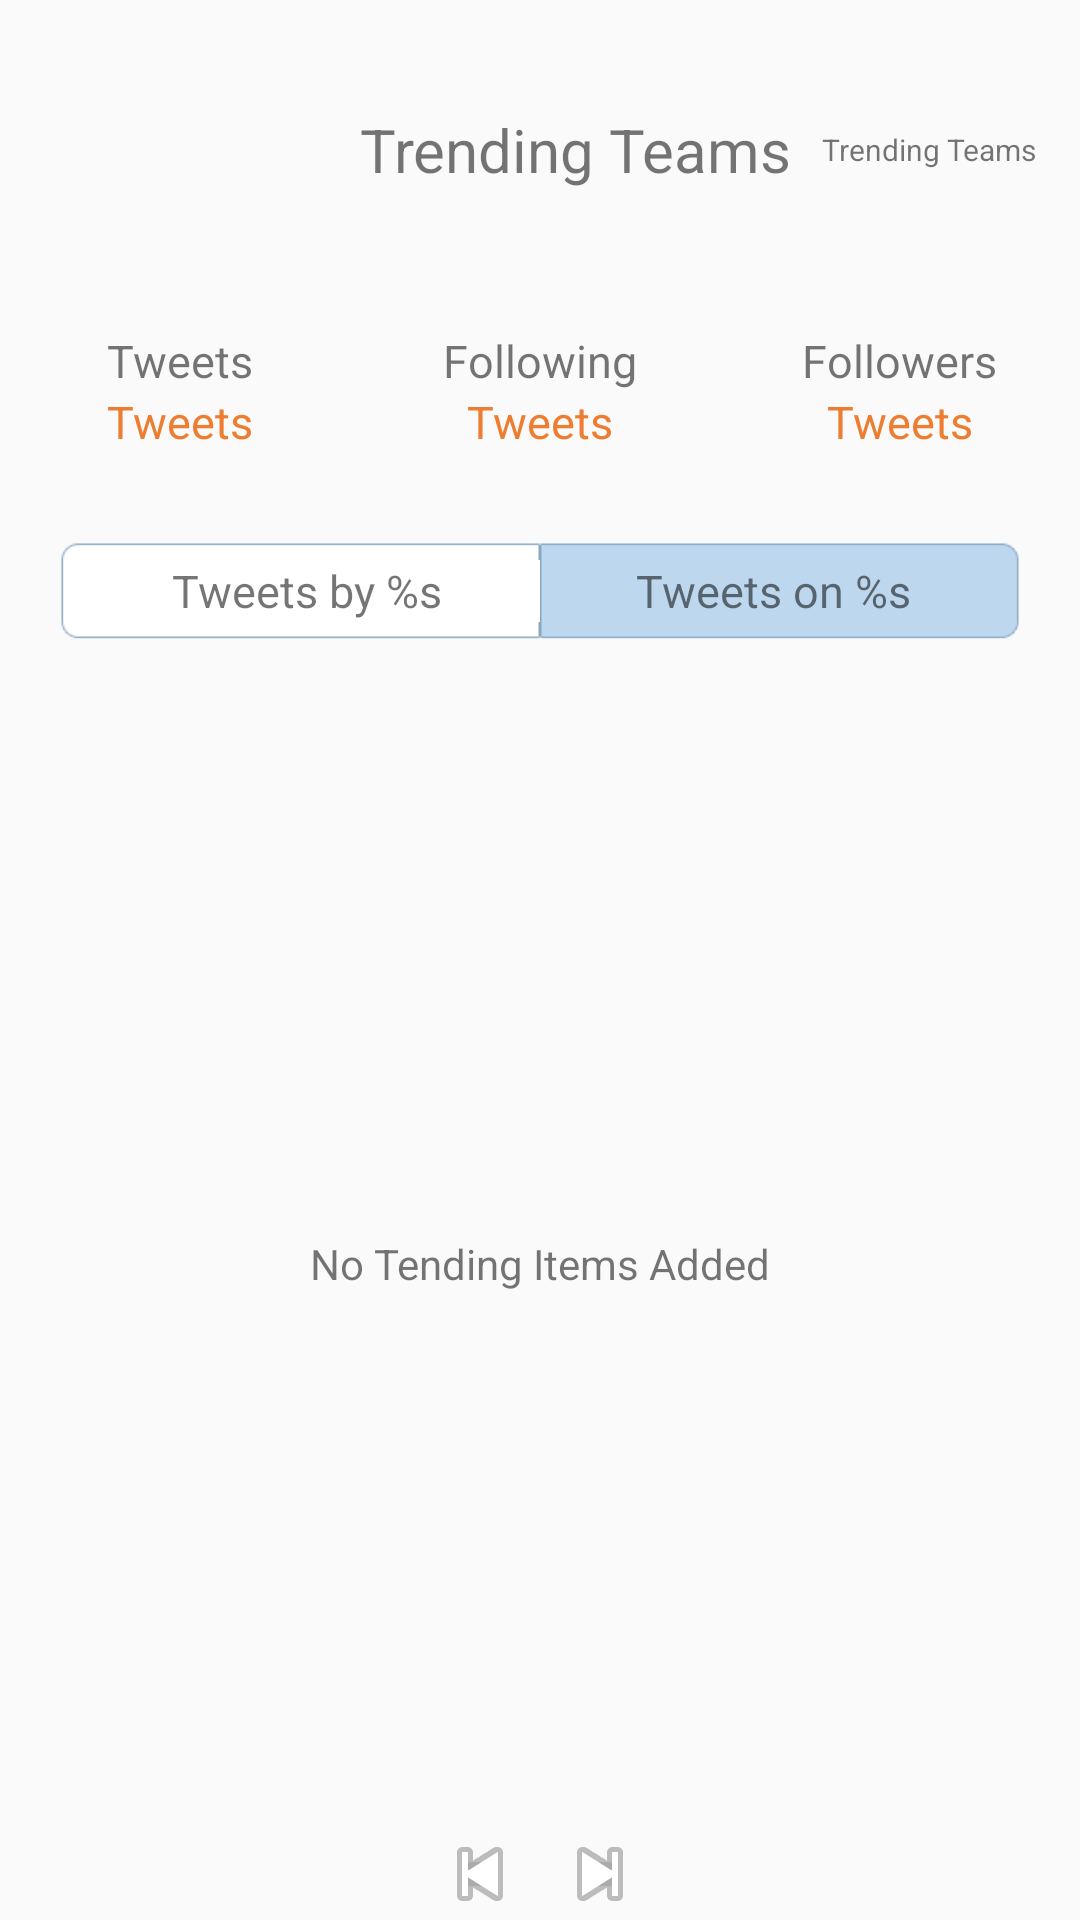

Named icons in this screenshot (1080 × 1920) and their centers, (x=x, y=y):
next: (x=600, y=1874)
previous: (x=480, y=1874)
